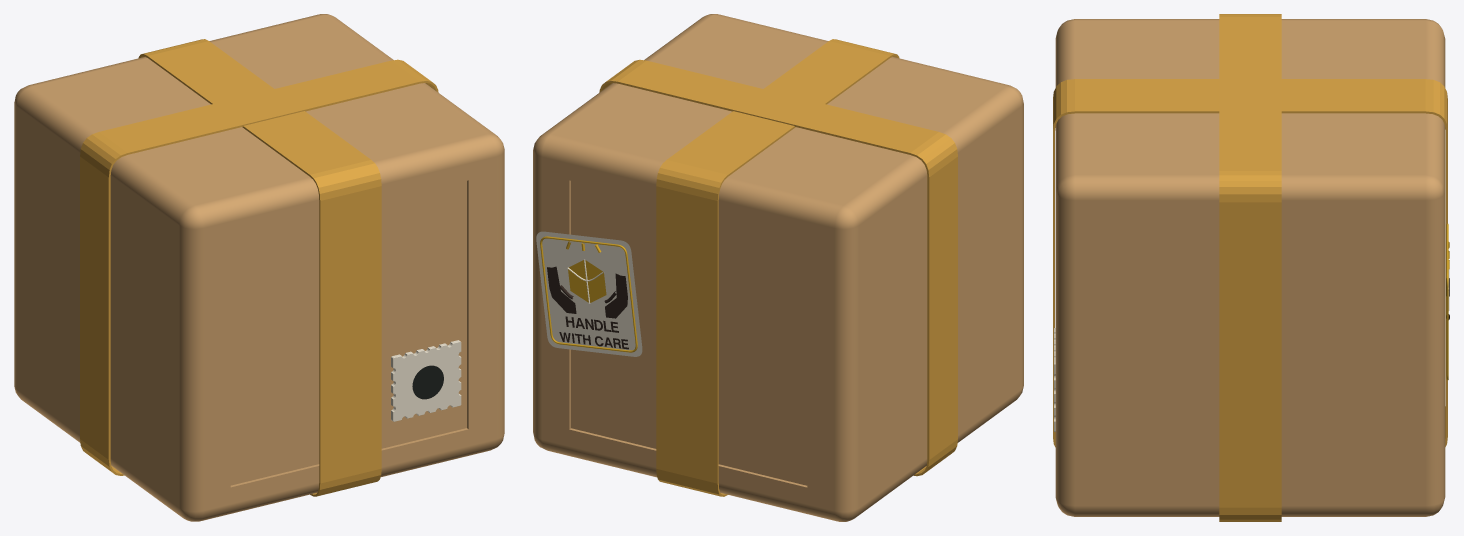
The model's file is play-parcel-small-yellow.glb.
The picture shows the model from 3 angles, left to right: view 1: azimuth 30°, elevation 25°; view 2: azimuth 150°, elevation 25°; view 3: azimuth 270°, elevation 25°; orthographic projection. The views are drawn at different scales.
Parts seen in each view (by area): view 1: Parcel_Carton, Parcel_Tape_Continuous_Front_Back, Parcel_Tape_Continuous_Left_Right, Parcel_Paper_Label, Parcel_Label_Circle; view 2: Parcel_Carton, Parcel_Tape_Continuous_Front_Back, Parcel_Tape_Continuous_Left_Right, Parcel_Care_H3_Paper, Parcel_Care_H3_Box, Parcel_Care_H3_Gold_Border, Parcel_Care_H3_Left_Hand, Parcel_Care_H3_Right_Hand; view 3: Parcel_Carton, Parcel_Tape_Continuous_Left_Right, Parcel_Tape_Continuous_Front_Back, Parcel_Care_H3_Gold_Border.
Boxes of the visible parts, <box> form: Parcel_Carton: <box>14,14,504,521</box>; Parcel_Tape_Continuous_Front_Back: <box>138,39,381,496</box>; Parcel_Tape_Continuous_Left_Right: <box>80,59,438,475</box>; Parcel_Paper_Label: <box>391,340,461,421</box>; Parcel_Label_Circle: <box>412,365,443,399</box>; Parcel_Carton: <box>533,14,1023,521</box>; Parcel_Tape_Continuous_Front_Back: <box>656,39,899,496</box>; Parcel_Tape_Continuous_Left_Right: <box>599,59,957,476</box>; Parcel_Care_H3_Paper: <box>536,231,642,356</box>; Parcel_Care_H3_Box: <box>568,260,606,302</box>; Parcel_Care_H3_Gold_Border: <box>540,236,637,352</box>; Parcel_Care_H3_Left_Hand: <box>547,266,576,313</box>; Parcel_Care_H3_Right_Hand: <box>605,273,627,318</box>; Parcel_Carton: <box>1055,19,1445,516</box>; Parcel_Tape_Continuous_Left_Right: <box>1219,14,1281,521</box>; Parcel_Tape_Continuous_Front_Back: <box>1053,79,1447,447</box>; Parcel_Care_H3_Gold_Border: <box>1446,223,1448,380</box>.
Bounding box in the file's own units: 0.148 × 0.138 × 0.1429.
